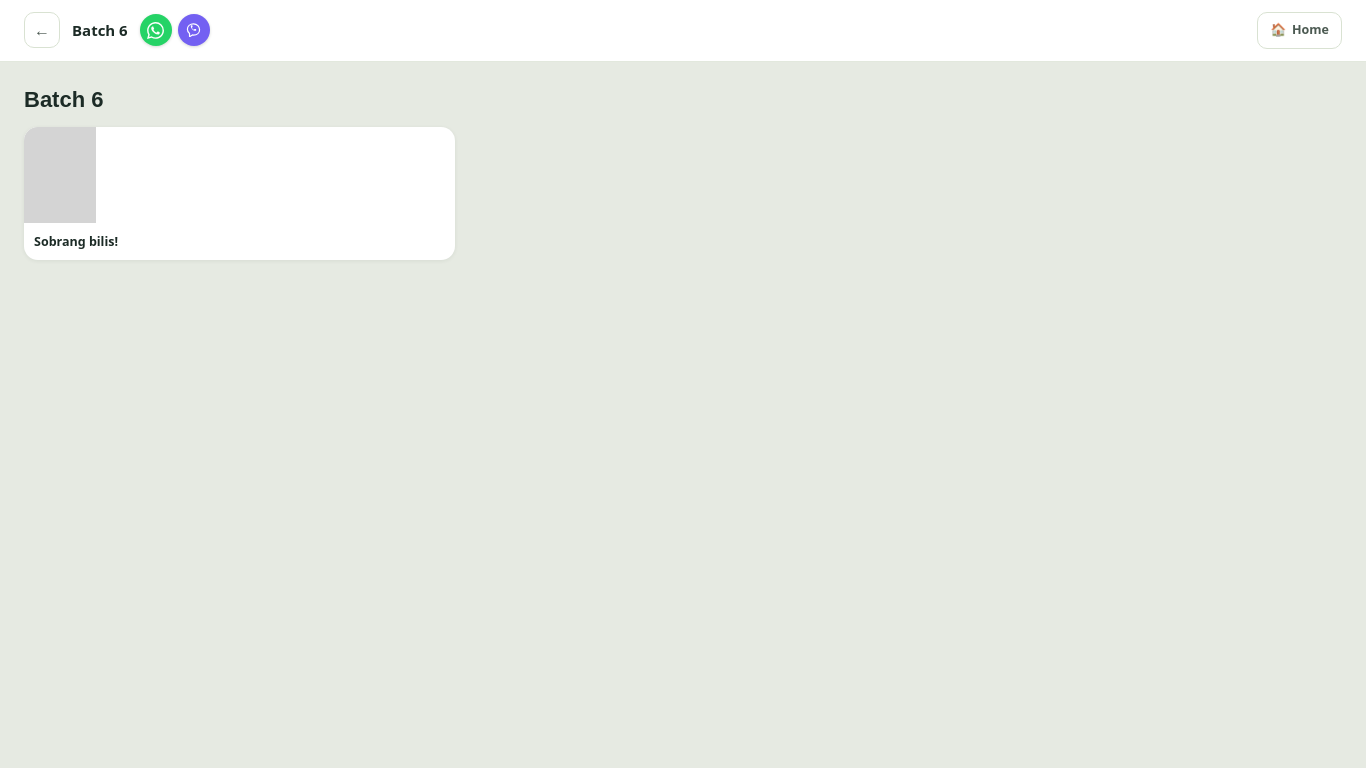
Feedback folder page › closes the full-size view from the button
Click the button "Sobrang bilis!": (60, 175) 24,127 -> 455,260
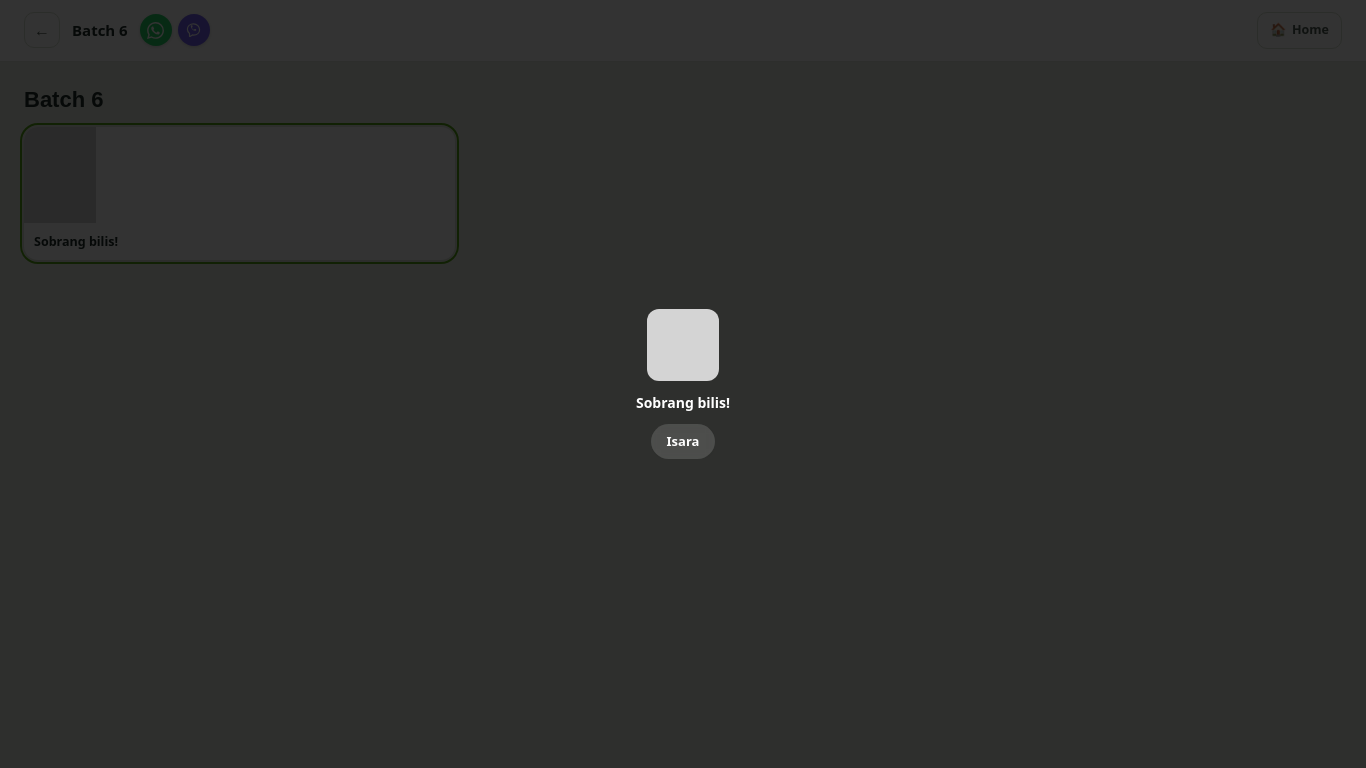
Click the button "Isara": (683, 442) 651,424 -> 716,459
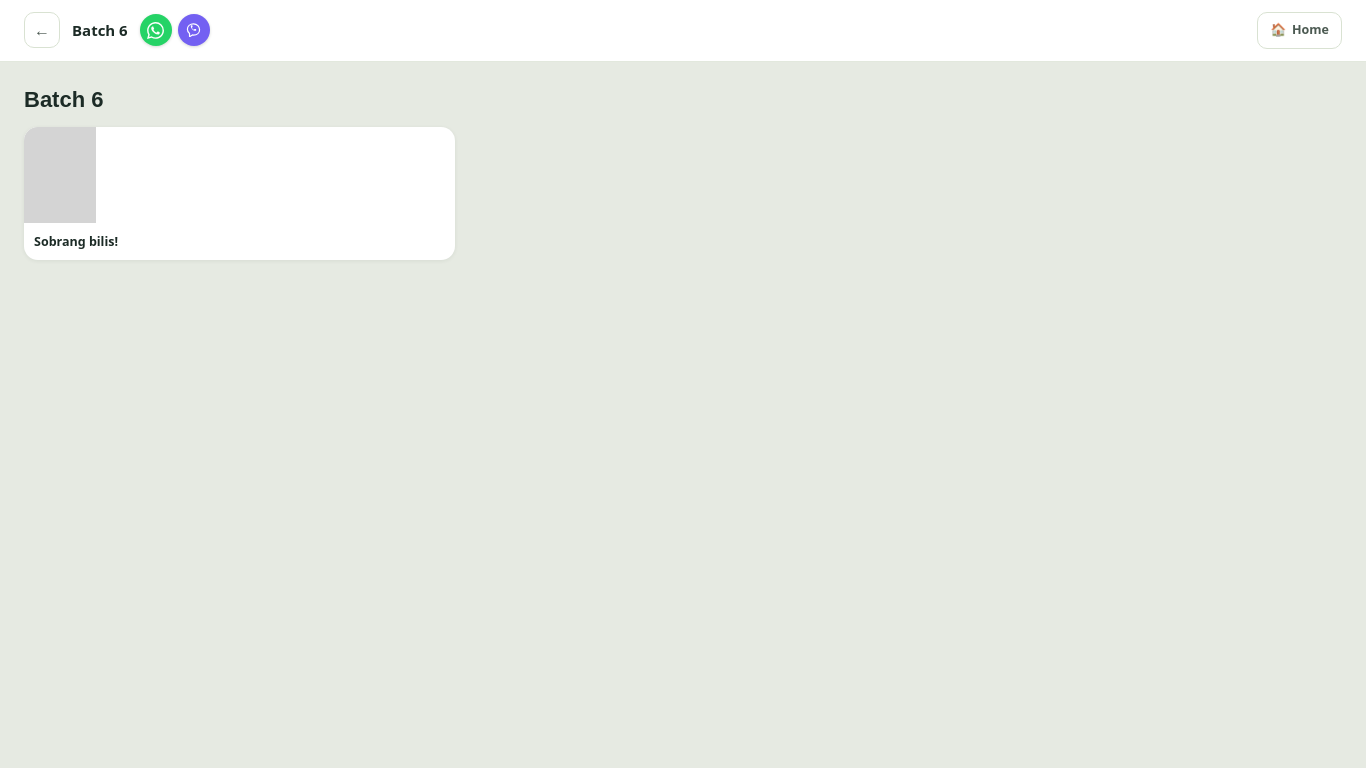
Expected: the dialog is gone
